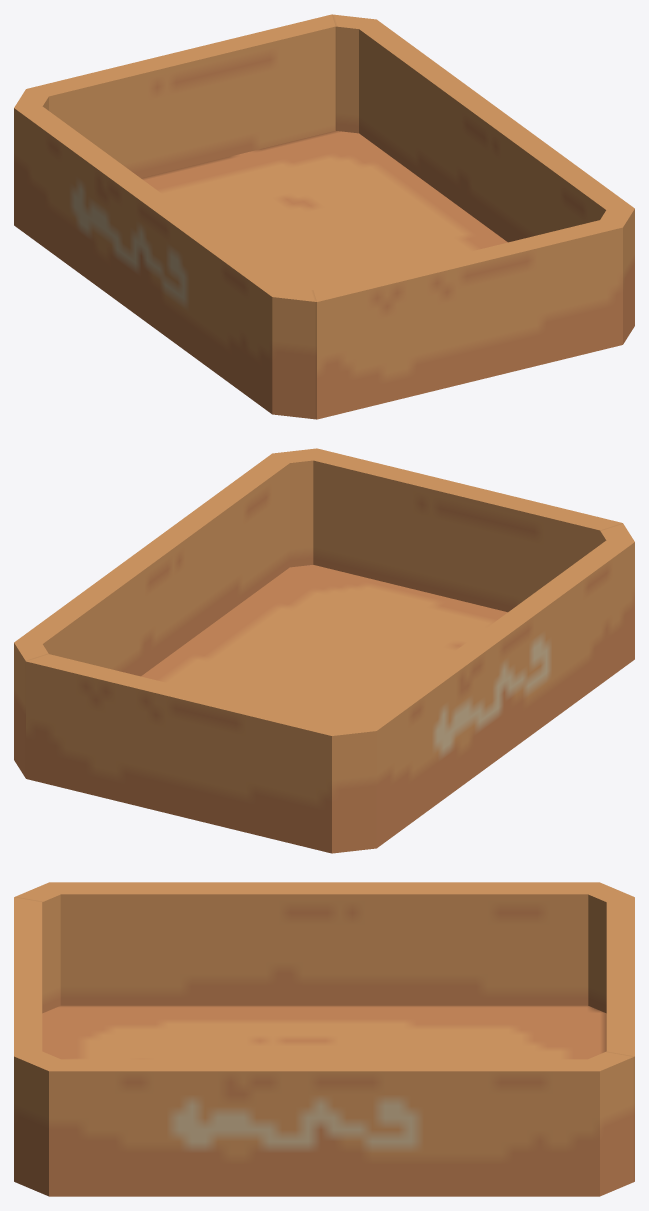
File: Pixel_Misc_S_002.fbx
3 renders of one model, top to bottom at view 1: azimuth 30°, elevation 25°; view 2: azimuth 150°, elevation 25°; view 3: azimuth 270°, elevation 25°, orthographic. The views are drawn at different scales.
Parts seen in each view (by area): view 1: Pixel_Misc_S_002; view 2: Pixel_Misc_S_002; view 3: Pixel_Misc_S_002.
Boxes of the visible parts, x1,y1,x2,y2 form: Pixel_Misc_S_002: (14, 14, 634, 419); Pixel_Misc_S_002: (14, 448, 634, 853); Pixel_Misc_S_002: (14, 882, 634, 1196).
Bounding box in the file's own units: 56.67 × 17.54 × 78.78.
